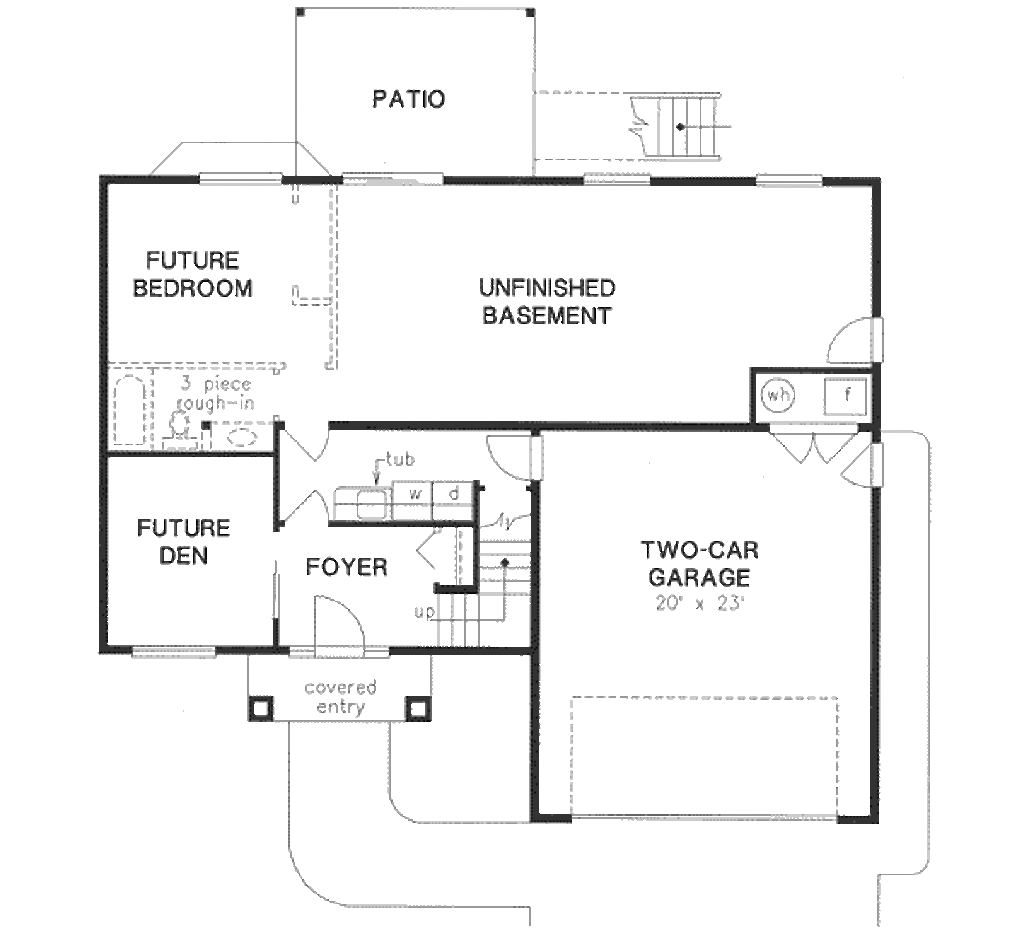door: (763, 409, 872, 478), (304, 583, 384, 659), (820, 308, 897, 366), (481, 430, 547, 483), (836, 438, 897, 494), (276, 420, 343, 467), (275, 483, 333, 530)
large_sink: (153, 392, 204, 452)
small_sink: (214, 424, 279, 460)
stairs: (415, 518, 553, 647)
tub: (110, 366, 156, 457)
window: (337, 162, 453, 192), (131, 634, 230, 665), (260, 554, 298, 627), (579, 160, 663, 192), (744, 162, 824, 194), (194, 165, 288, 189)
